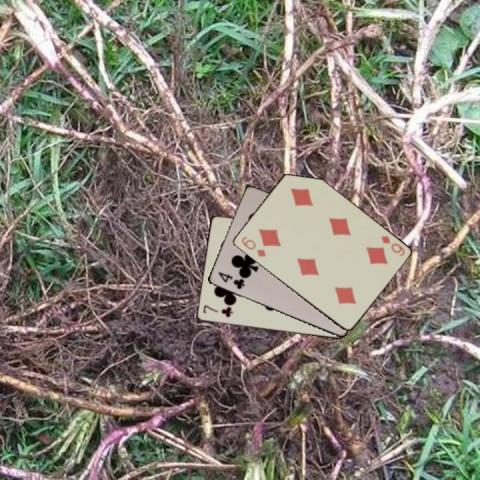4c: (215, 268, 246, 290)
6d: (238, 233, 267, 259), (378, 233, 406, 258)
7c: (200, 302, 234, 318)
